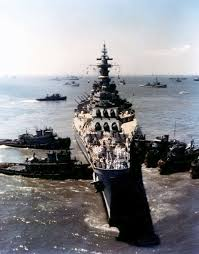tau_muctieu: (71, 63, 134, 221), (6, 124, 73, 148), (34, 87, 67, 103)
